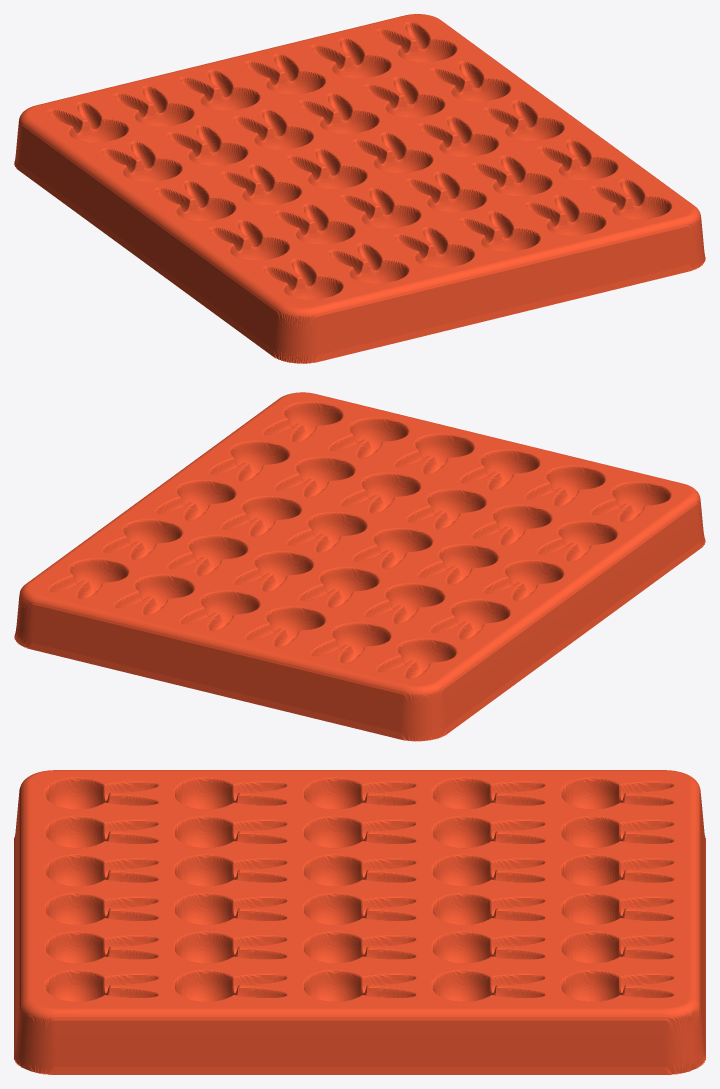
The model's file is mold.glb.
The picture shows the model from 3 angles, top to bottom: view 1: azimuth 30°, elevation 25°; view 2: azimuth 150°, elevation 25°; view 3: azimuth 270°, elevation 25°; orthographic projection. The views are drawn at different scales.
Visible parts, largest first — view 1: geometry_0; view 2: geometry_0; view 3: geometry_0.
Part boxes in pixels (<box>): geometry_0: <box>14,14,705,363</box>; geometry_0: <box>14,392,705,741</box>; geometry_0: <box>14,770,705,1074</box>.
Bounding box in the file's own units: 0.1302 × 0.0145 × 0.1517.
